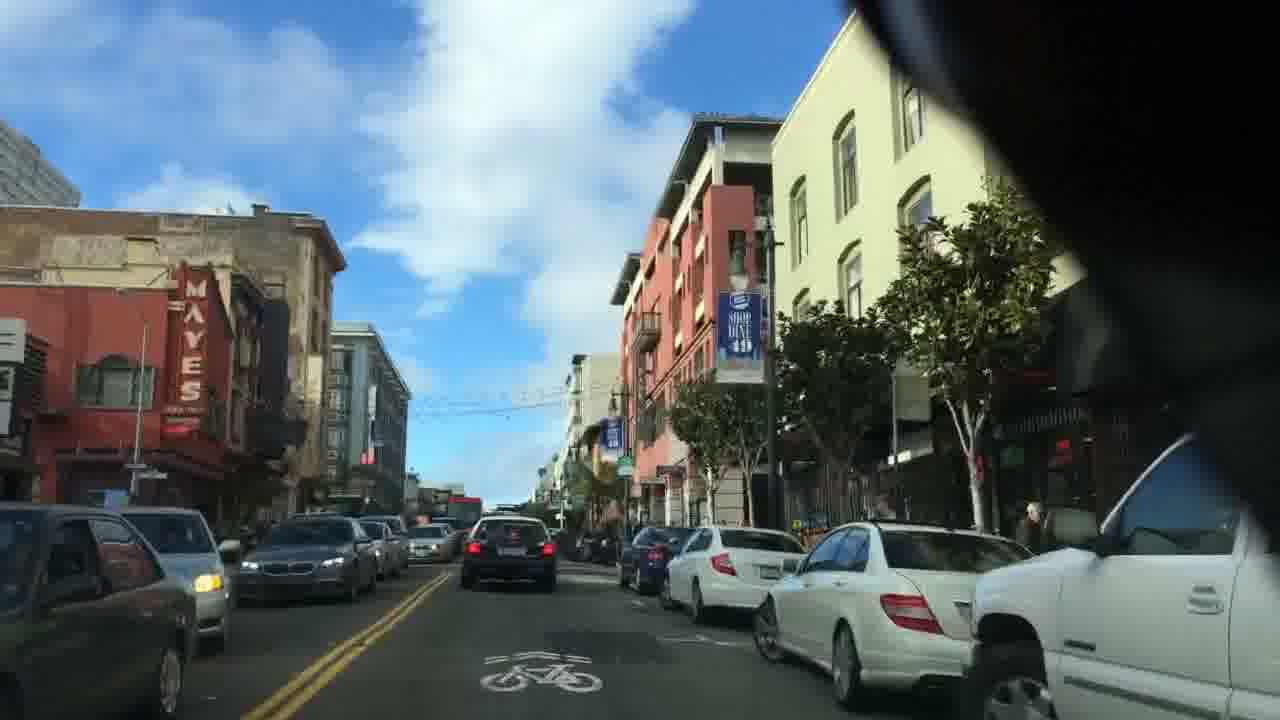car: (960, 428, 1279, 720), (753, 518, 1038, 713), (0, 498, 197, 720), (658, 524, 810, 624), (235, 513, 378, 605), (461, 514, 558, 590), (618, 524, 696, 594), (402, 522, 455, 563)
